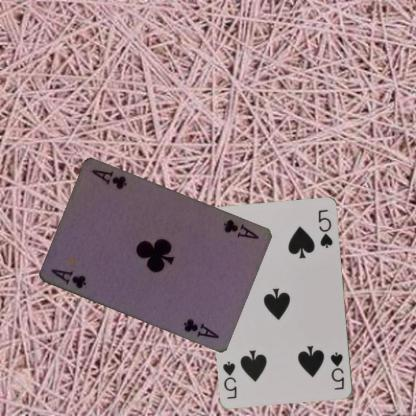5s: (327, 350, 346, 391)
Ac: (220, 215, 260, 241), (48, 266, 88, 290)
